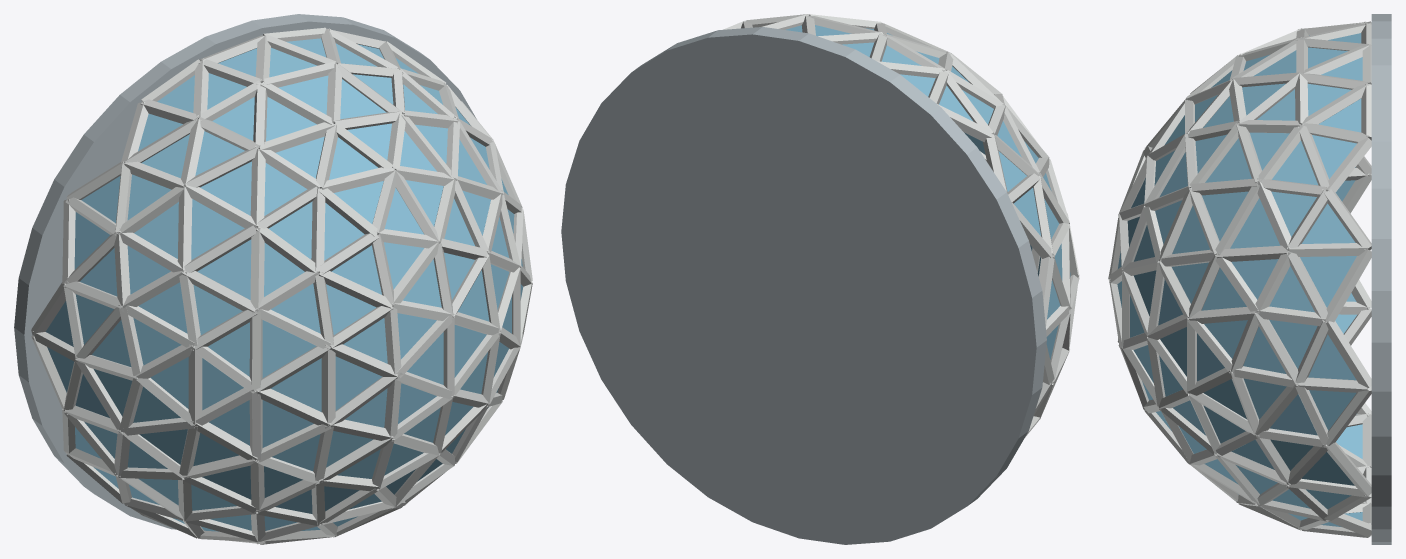
Rendered from 05_geodesic_dome.glb.
The picture shows the model from 3 angles, left to right: view 1: azimuth 30°, elevation 25°; view 2: azimuth 150°, elevation 25°; view 3: azimuth 270°, elevation 25°; orthographic projection. The views are drawn at different scales.
Visible parts, largest first — view 1: 05_geodesic_dome_part_000, 05_geodesic_dome_part_254, 05_geodesic_dome_part_256, 05_geodesic_dome_part_307, 05_geodesic_dome_part_255, 05_geodesic_dome_part_310, 05_geodesic_dome_part_309, 05_geodesic_dome_part_253, 05_geodesic_dome_part_252, 05_geodesic_dome_part_308, 05_geodesic_dome_part_298, 05_geodesic_dome_part_296 (+178 smaller); view 2: 05_geodesic_dome_part_000, 05_geodesic_dome_part_103, 05_geodesic_dome_part_215, 05_geodesic_dome_part_150, 05_geodesic_dome_part_003, 05_geodesic_dome_part_123, 05_geodesic_dome_part_100; view 3: 05_geodesic_dome_part_000, 05_geodesic_dome_part_392, 05_geodesic_dome_part_293, 05_geodesic_dome_part_294, 05_geodesic_dome_part_390, 05_geodesic_dome_part_391, 05_geodesic_dome_part_388, 05_geodesic_dome_part_181, 05_geodesic_dome_part_282, 05_geodesic_dome_part_389, 05_geodesic_dome_part_281, 05_geodesic_dome_part_291 (+137 smaller).
Part boxes in pixels (x1,y1,x2,y2): 05_geodesic_dome_part_000: (14,14,476,529); 05_geodesic_dome_part_254: (197,239,251,299); 05_geodesic_dome_part_256: (191,199,244,259); 05_geodesic_dome_part_307: (262,320,316,378); 05_geodesic_dome_part_255: (200,161,251,215); 05_geodesic_dome_part_310: (271,358,321,411); 05_geodesic_dome_part_309: (335,356,382,410); 05_geodesic_dome_part_253: (134,202,178,258); 05_geodesic_dome_part_252: (269,201,312,259); 05_geodesic_dome_part_308: (262,400,313,447); 05_geodesic_dome_part_298: (326,284,376,334); 05_geodesic_dome_part_296: (271,283,320,333); 05_geodesic_dome_part_000: (561,27,1046,544); 05_geodesic_dome_part_103: (1033,176,1053,253); 05_geodesic_dome_part_215: (1012,202,1053,258); 05_geodesic_dome_part_150: (946,70,993,133); 05_geodesic_dome_part_003: (936,103,992,142); 05_geodesic_dome_part_123: (1039,256,1054,327); 05_geodesic_dome_part_100: (1003,107,1040,173); 05_geodesic_dome_part_000: (1371,14,1391,544); 05_geodesic_dome_part_392: (1300,256,1356,307); 05_geodesic_dome_part_293: (1230,198,1280,248); 05_geodesic_dome_part_294: (1202,191,1248,241); 05_geodesic_dome_part_390: (1269,319,1317,368); 05_geodesic_dome_part_391: (1302,203,1355,243); 05_geodesic_dome_part_388: (1308,334,1356,380); 05_geodesic_dome_part_181: (1325,249,1371,322); 05_geodesic_dome_part_282: (1272,140,1317,185); 05_geodesic_dome_part_389: (1269,266,1314,312); 05_geodesic_dome_part_281: (1271,191,1316,236); 05_geodesic_dome_part_291: (1205,138,1251,182).
Size of the model in its own units: 6.4 by 6.4 by 3.41.
